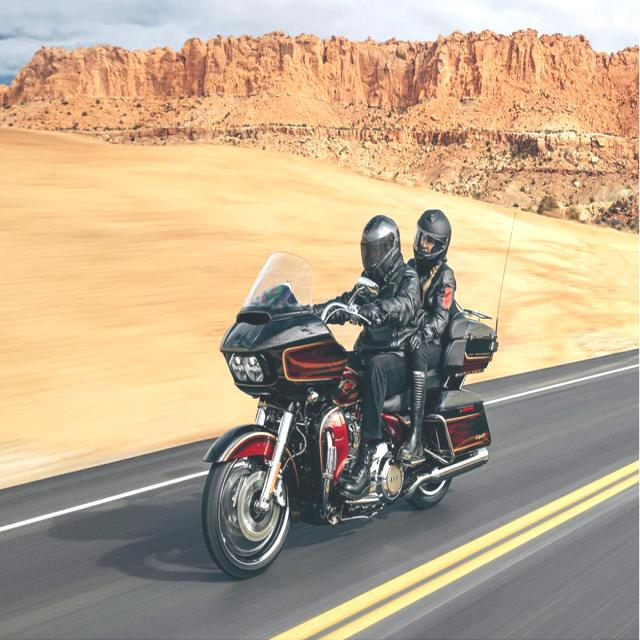MOTORCYCLE: (208, 316, 496, 586)
